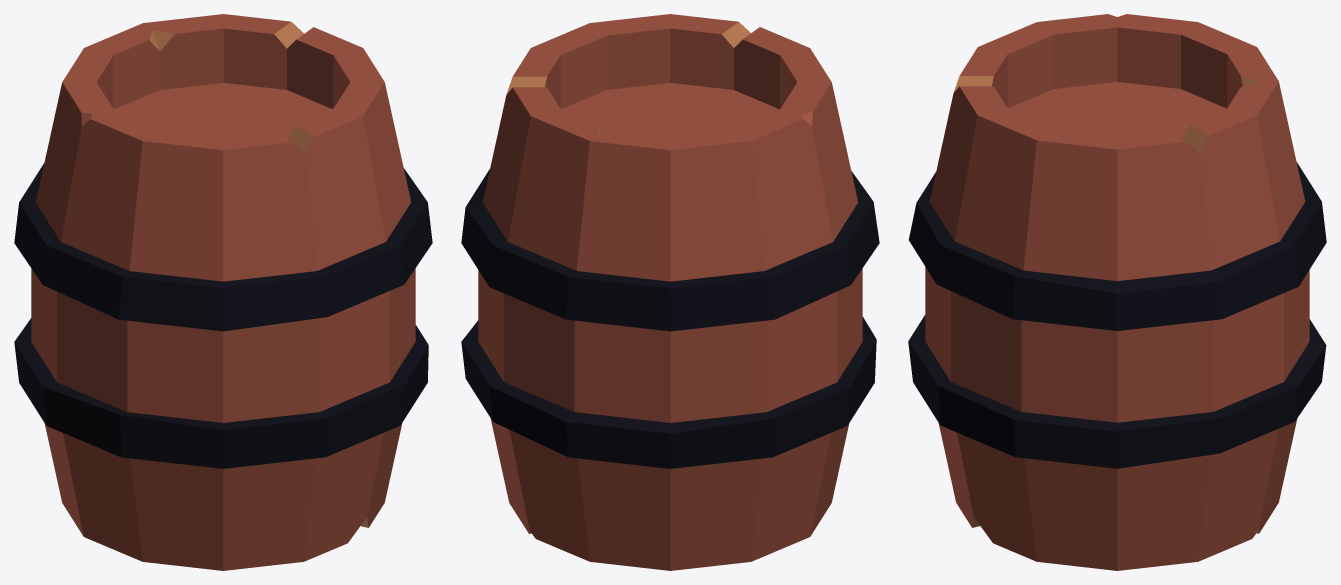
File: barrel.fbx
3 views of the same model, side by side, from view 1: azimuth 30°, elevation 25°; view 2: azimuth 150°, elevation 25°; view 3: azimuth 270°, elevation 25° (orthographic).
Parts seen in each view (by area): view 1: barrel; view 2: barrel; view 3: barrel.
Part boxes in pixels (x1,y1,x2,y2): barrel: (14,14,432,570); barrel: (461,14,879,570); barrel: (908,14,1326,570).
Bounding box in the file's own units: 90 × 100 × 90.
Materials: 1 (1 with a texture image).
